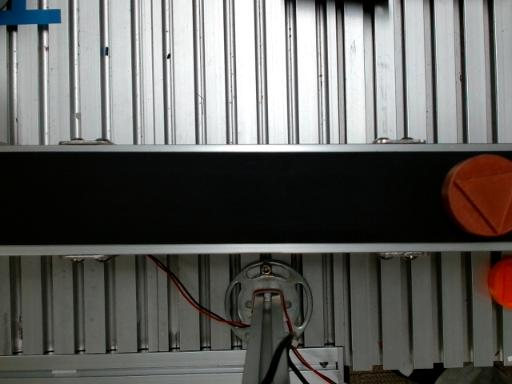Brown_Waper: (442, 154, 511, 237)
Not_Square: (453, 172, 511, 235)
